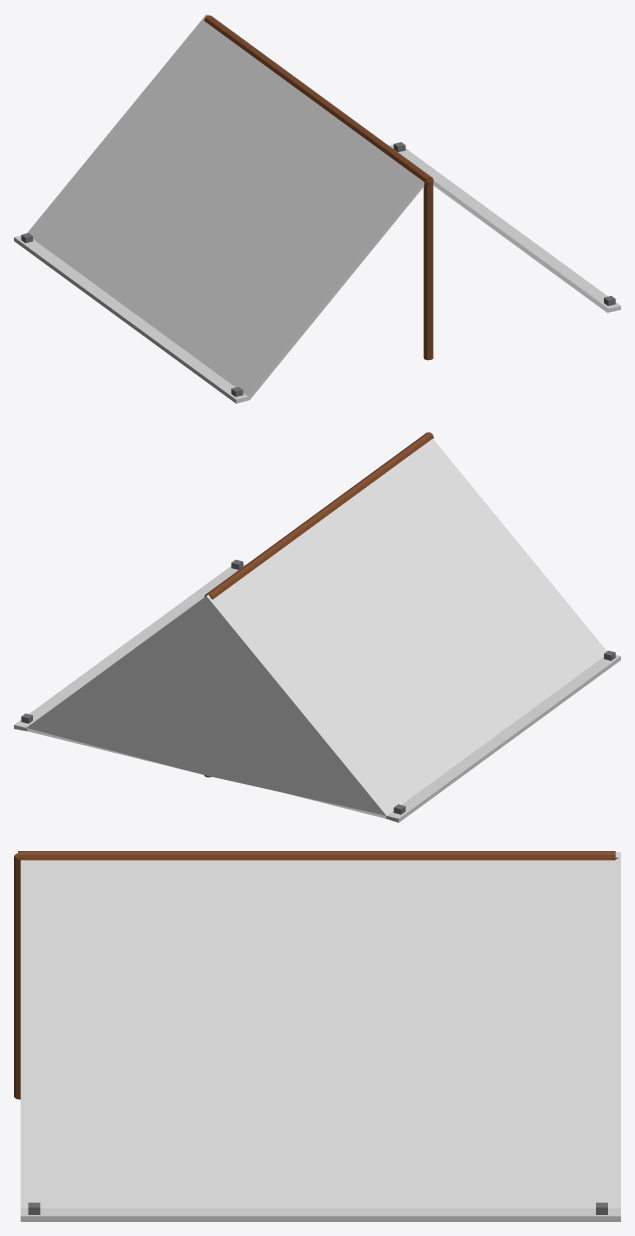
Rendered from cabana_triangulo 1.fbx.
3 views of the same model, one above another, from view 1: azimuth 30°, elevation 25°; view 2: azimuth 150°, elevation 25°; view 3: azimuth 270°, elevation 25° (orthographic). The views are drawn at different scales.
Parts seen in each view (by area): view 1: cabana_triangulo; view 2: cabana_triangulo; view 3: cabana_triangulo.
Boxes of the visible parts, x1,y1,x2,y2 form: cabana_triangulo: [14, 14, 620, 403]; cabana_triangulo: [14, 432, 620, 822]; cabana_triangulo: [14, 851, 620, 1221].
Size of the model in its own units: 200 by 90.26 by 202.
